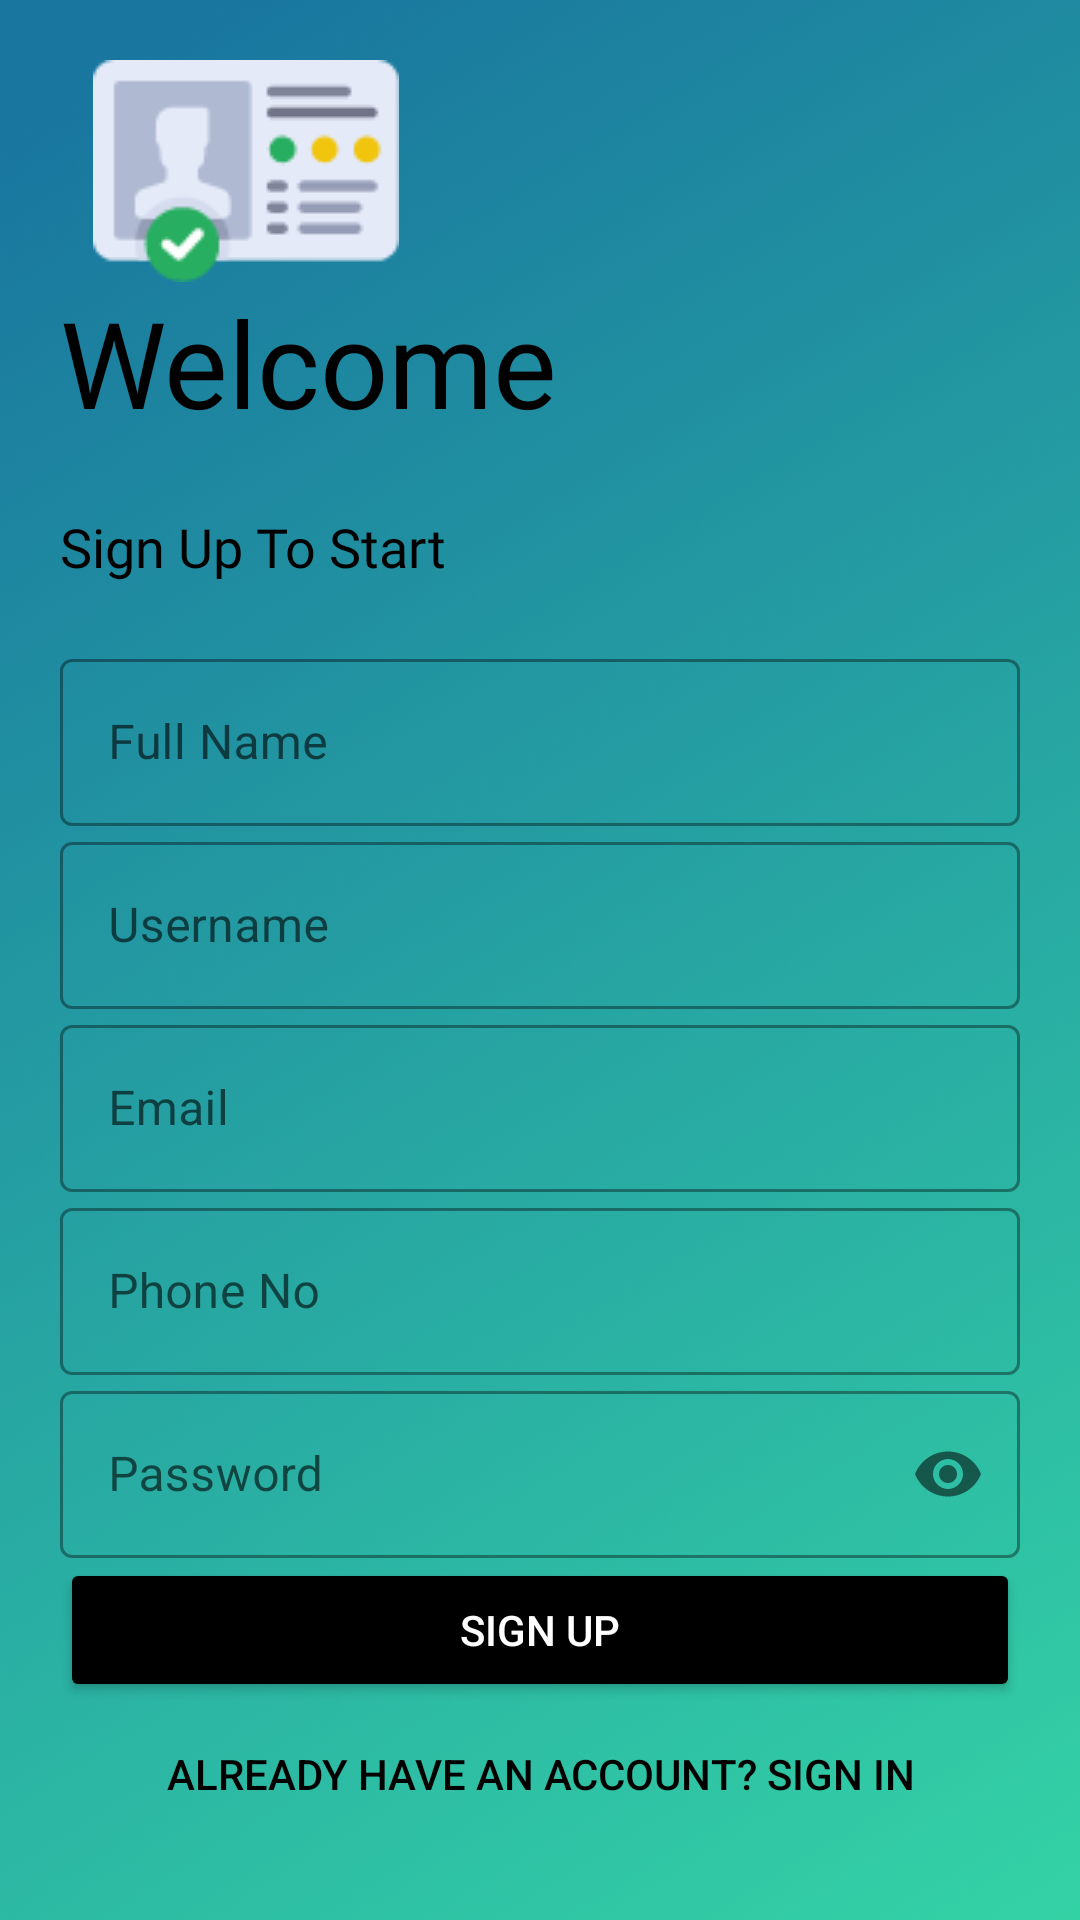

Where icons sit on this 1080px×1920px app screen, as (x1, y1, x2, y2):
verification: (93, 60, 399, 282)
